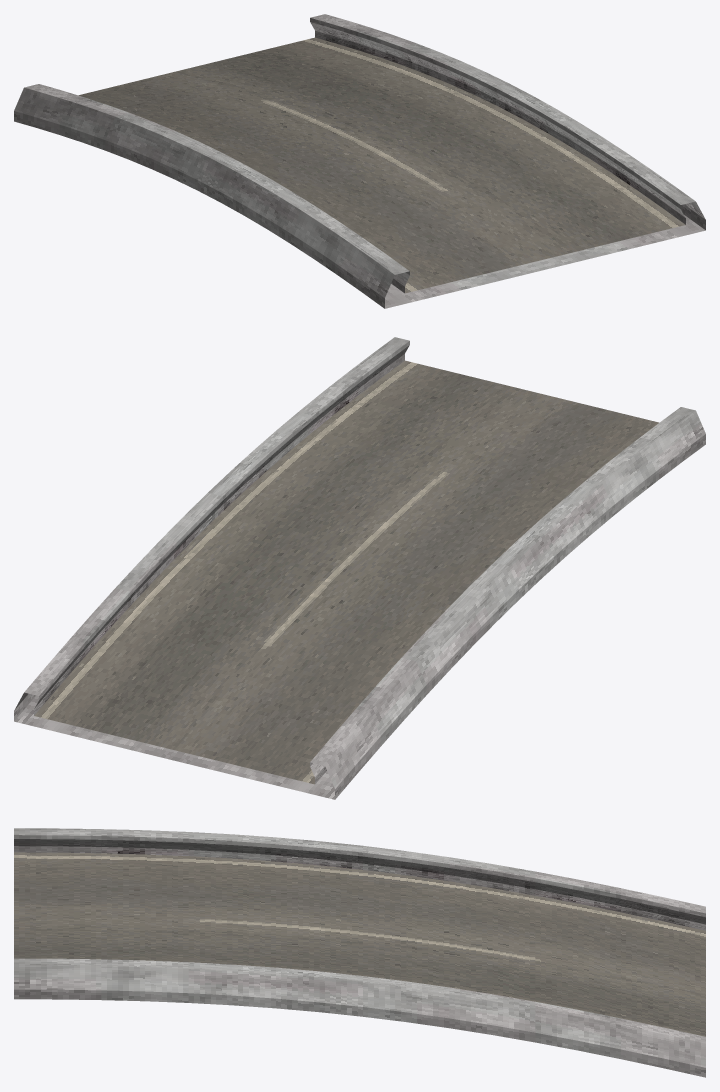
File: road-Straight-Flat-BiSlopeDown-Down1-Center-Size2.glb
The picture shows the model from 3 angles, top to bottom: view 1: azimuth 30°, elevation 25°; view 2: azimuth 150°, elevation 25°; view 3: azimuth 270°, elevation 25°; orthographic projection. The views are drawn at different scales.
Visible parts, largest first — view 1: road-Straight-Flat-BiSlopeDown-Down1-Center-Size2; view 2: road-Straight-Flat-BiSlopeDown-Down1-Center-Size2; view 3: road-Straight-Flat-BiSlopeDown-Down1-Center-Size2.
Boxes of the visible parts, box(x1,y1,x2,y2) form: road-Straight-Flat-BiSlopeDown-Down1-Center-Size2: box(14, 14, 705, 308); road-Straight-Flat-BiSlopeDown-Down1-Center-Size2: box(14, 337, 705, 799); road-Straight-Flat-BiSlopeDown-Down1-Center-Size2: box(14, 828, 705, 1077).
Size of the model in its own units: 1 by 0.3438 by 2.
2 materials, 2 textured.
